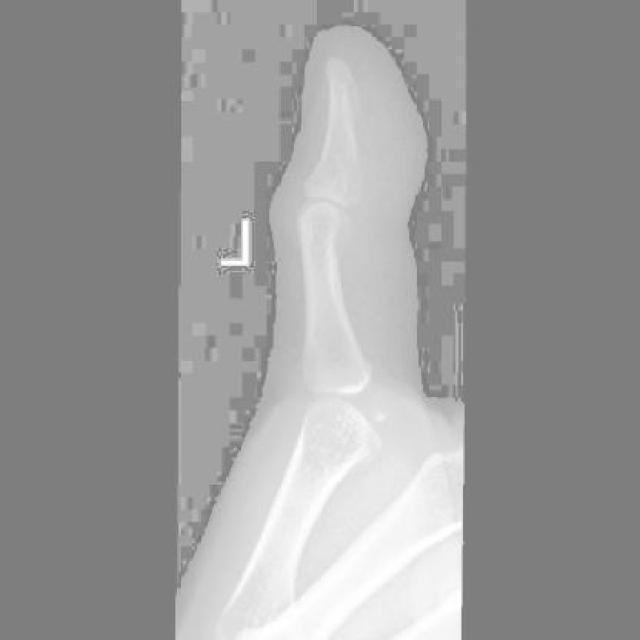Fracture: (328, 77, 366, 123)
